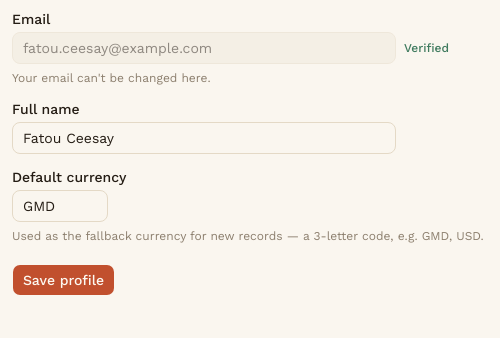
<ProfileForm /> — validation and submission › blocks a currency that isn't a 3-letter code
This screenshot has width=500, height=338.
Replace the text in the field labelled "Default currency" with "US": [60, 206] box x1=12 y1=190 x2=108 y2=222
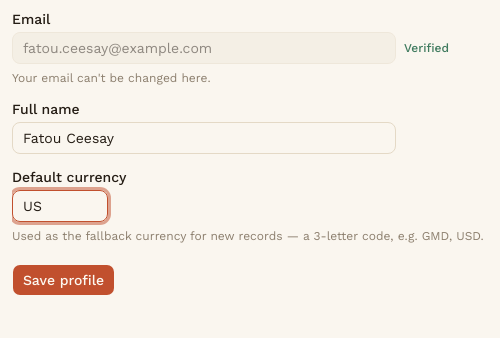
Click the button "Save profile": [64, 280] box x1=12 y1=264 x2=115 y2=296
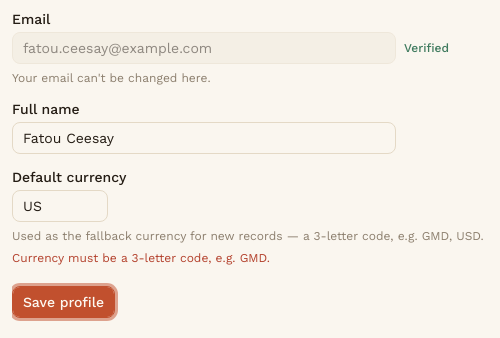
Expected: the text "Currency must be a 3-letter code, e.g. GMD." is shown, x1=12 y1=251 x2=270 y2=265
